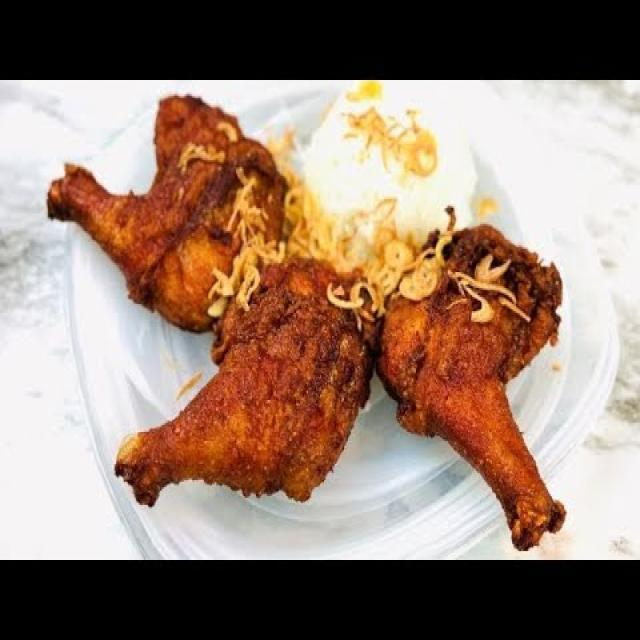thit ga: (115, 259, 384, 512), (386, 228, 568, 547), (46, 96, 279, 320)
xoi: (306, 80, 484, 258), (284, 129, 402, 286)
xoi ga chien: (42, 82, 619, 555)
